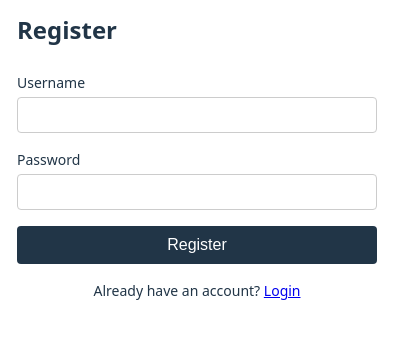
Scenario: registerPage › shows validation error for short username
Step 1. Type "ab" into the field labelled "Username" → {"x": 197, "y": 115}, box [17,97,377,133]
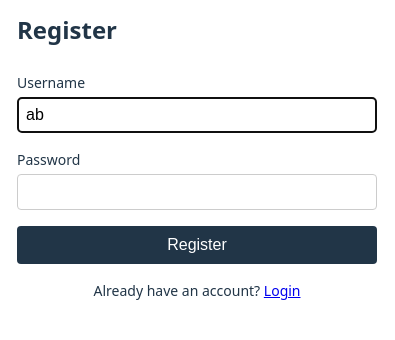
Step 2. Type "password123" into the password field labelled "Password" → {"x": 197, "y": 192}, box [17,174,377,210]
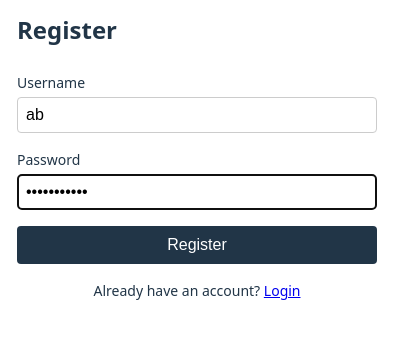
Step 3. Click the button "Register" → {"x": 197, "y": 245}, box [17,226,377,264]
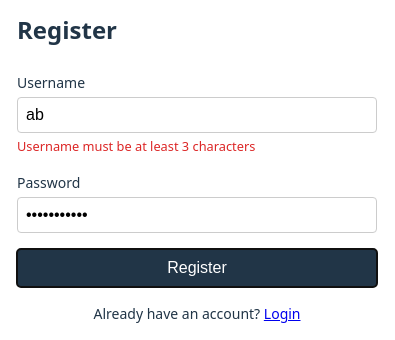
Result: the text "Username must be at least 3 characters" is shown at [17,137,255,155]
